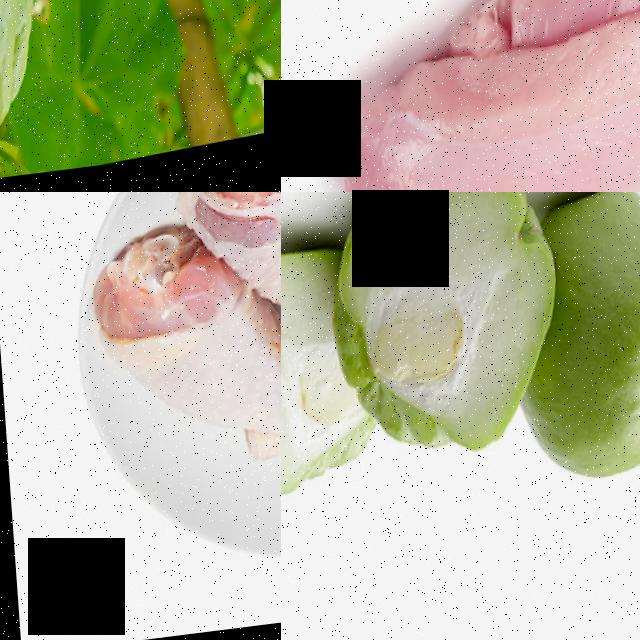chayote: (334, 192, 553, 516), (547, 192, 640, 502), (281, 219, 350, 547), (0, 0, 78, 184)
chicken breast: (325, 0, 640, 192)
chicken thigh: (91, 219, 281, 495), (185, 192, 281, 528)
